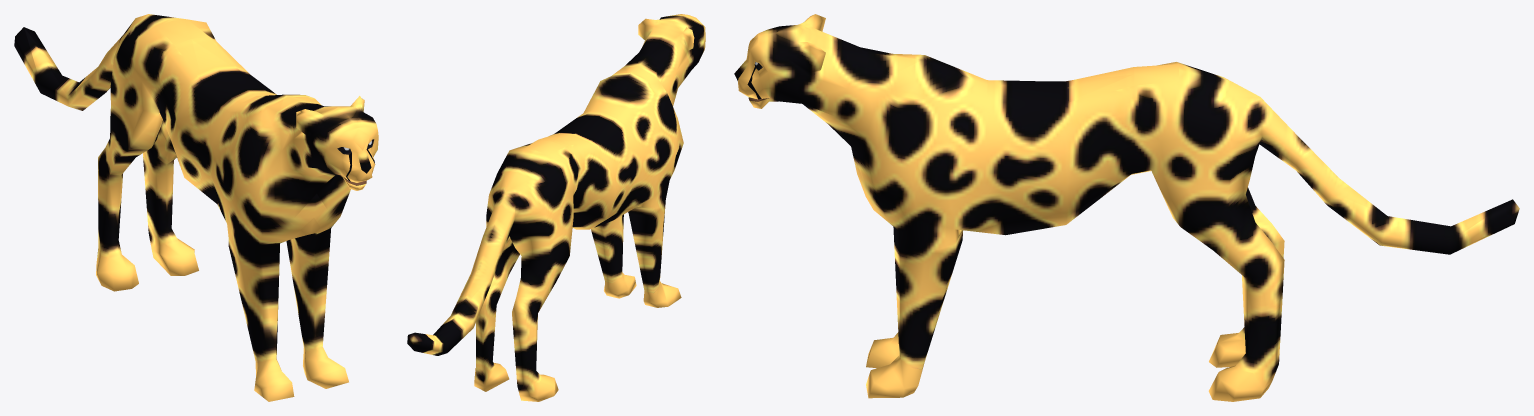
File: Cheetah02.glb
3 renders of one model, left to right at view 1: azimuth 30°, elevation 25°; view 2: azimuth 150°, elevation 25°; view 3: azimuth 270°, elevation 25°, orthographic. The views are drawn at different scales.
Visible parts, largest first — view 1: Cheetah02; view 2: Cheetah02; view 3: Cheetah02.
Boxes of the visible parts, x1=… form: Cheetah02: x1=14, y1=14, x2=378, y2=401; Cheetah02: x1=407, y1=14, x2=705, y2=401; Cheetah02: x1=734, y1=14, x2=1519, y2=401.
Size of what is drawn, in the model's own units: 0.4075 by 1.12 by 2.3.
1 material, 1 textured.
